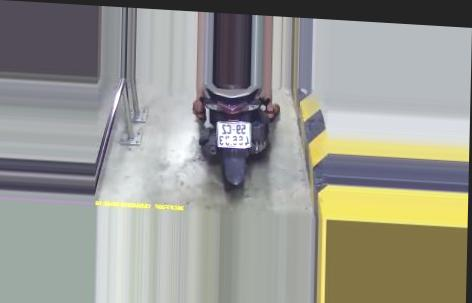License_Plate: (216, 118, 256, 150)
